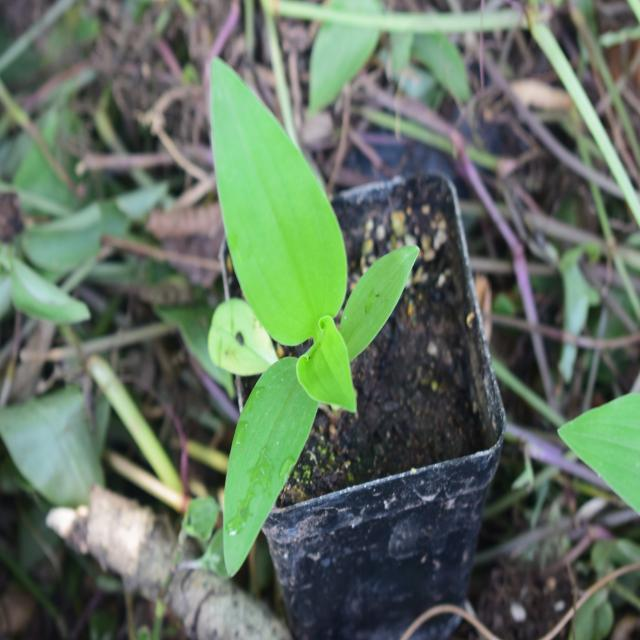Common Dayflower: (184, 44, 416, 534)
